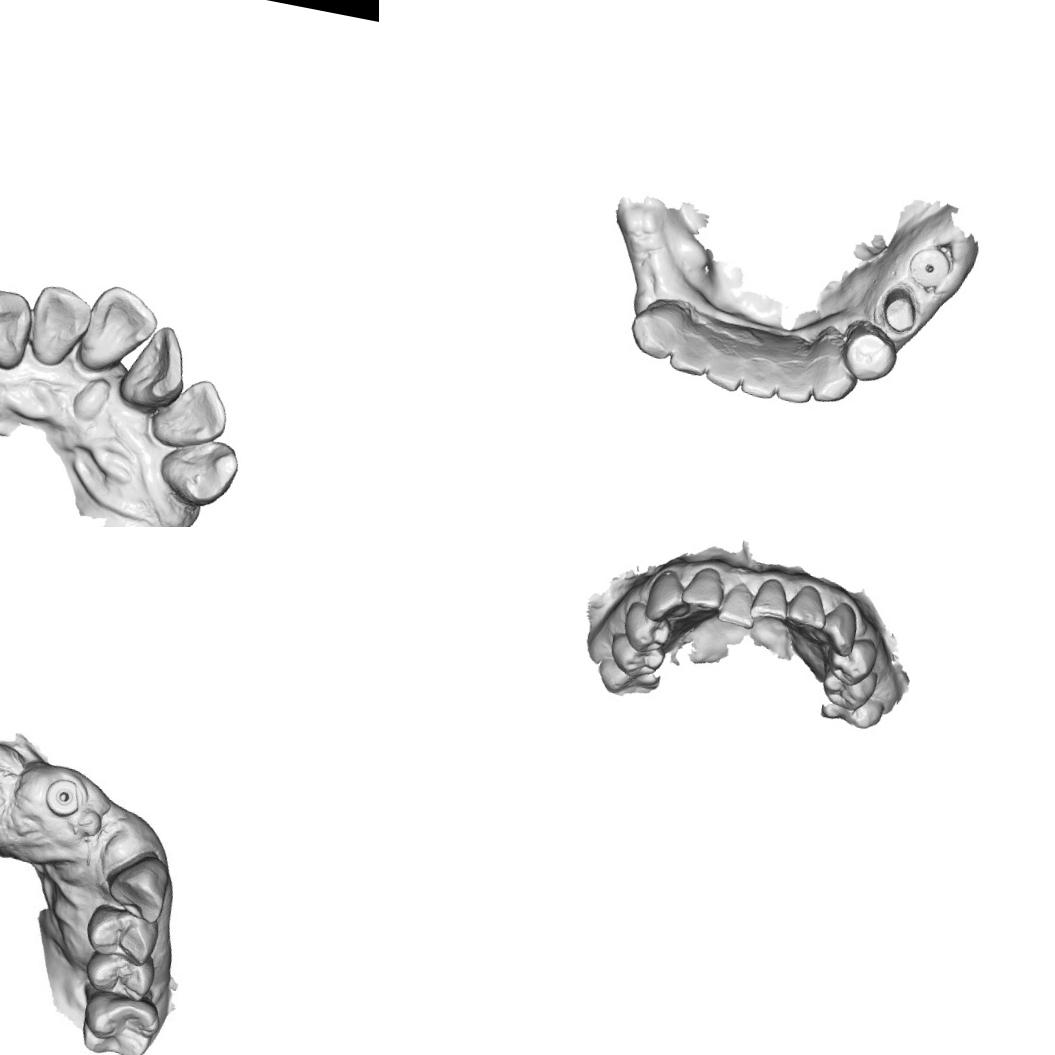canine: (151, 429, 245, 513), (106, 848, 174, 920), (623, 300, 683, 365), (804, 346, 864, 408), (0, 281, 39, 374), (640, 566, 698, 628), (808, 596, 861, 658)
crown: (873, 281, 924, 339)
implant: (902, 240, 956, 293), (38, 770, 86, 820)
incisor: (74, 278, 164, 380), (115, 316, 195, 413), (146, 370, 234, 457), (20, 279, 98, 373), (700, 335, 750, 397), (736, 344, 788, 402), (663, 324, 715, 380), (773, 353, 821, 410), (678, 561, 728, 614), (714, 576, 761, 630), (782, 582, 832, 632), (747, 574, 793, 625)
molar: (80, 988, 162, 1055)
premolar: (81, 898, 162, 966), (76, 946, 162, 1007), (835, 314, 903, 389), (821, 630, 881, 691), (616, 598, 676, 658), (604, 628, 667, 683), (817, 661, 879, 714)
